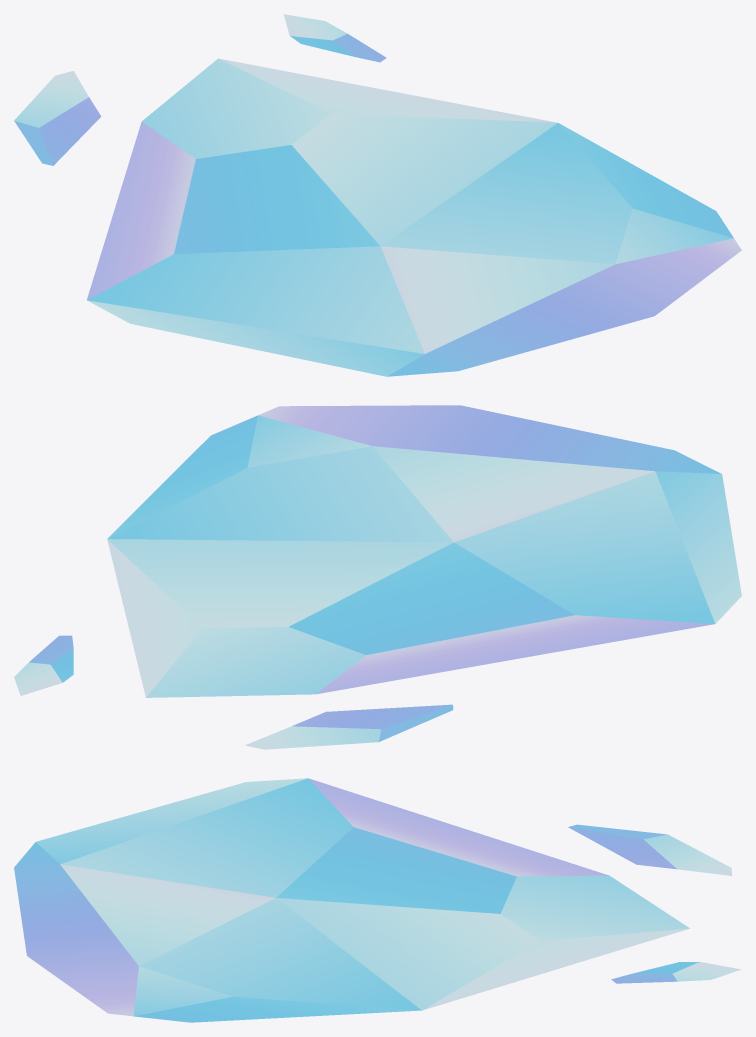
File: P_Ice_Crystal_01.fbx
3 views of the same model, one above another, from view 1: azimuth 30°, elevation 25°; view 2: azimuth 150°, elevation 25°; view 3: azimuth 270°, elevation 25° (orthographic). The views are drawn at different scales.
Parts seen in each view (by area): view 1: Base001, Object001, Object002; view 2: Base001, Object001, Object002; view 3: Base001, Object001, Object002.
Part boxes in pixels (x1,y1,x2,y2): Base001: [87, 58, 741, 376]; Object001: [14, 71, 101, 165]; Object002: [284, 14, 386, 62]; Base001: [107, 405, 741, 697]; Object001: [245, 704, 453, 749]; Object002: [14, 635, 73, 695]; Base001: [14, 778, 689, 1022]; Object001: [568, 824, 731, 875]; Object002: [611, 961, 741, 983].
Size of the model in its own units: 65.38 by 5.11e-15 by 82.28.
